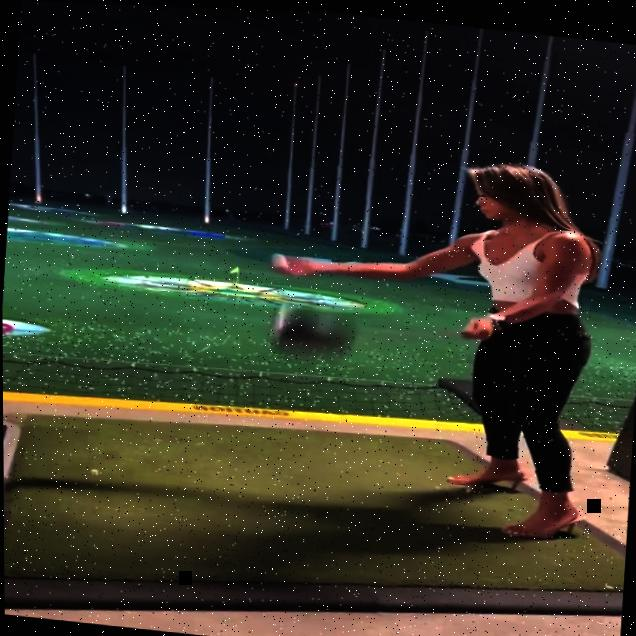ClubHead: (272, 307, 350, 348)
GolfBall: (268, 251, 290, 265)
